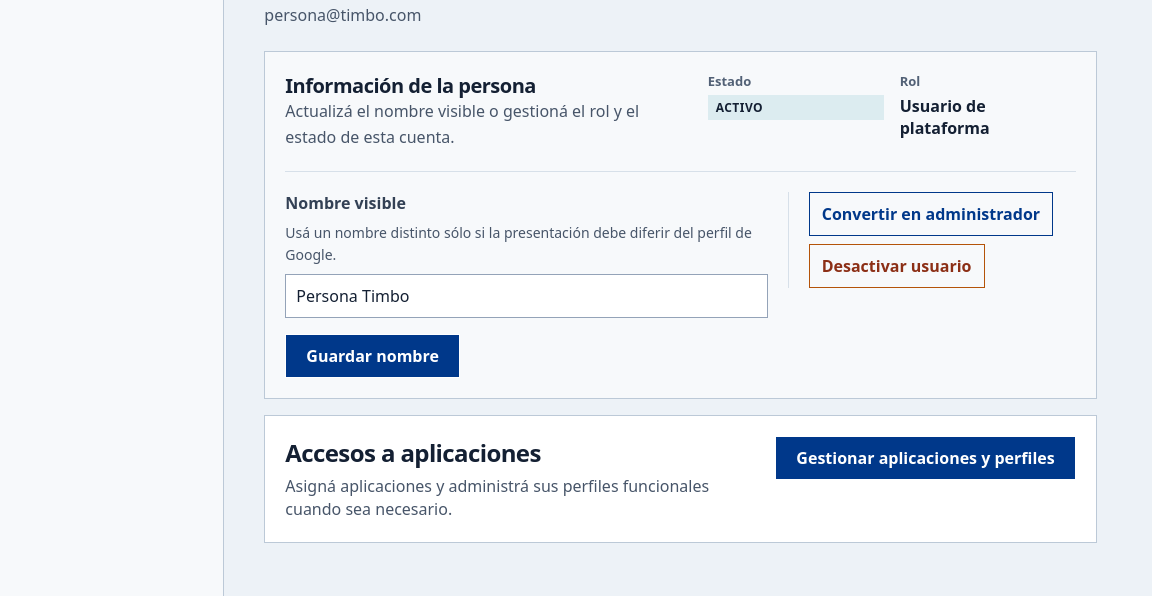
Test case: App › requiere una nueva confirmación al elegir otra aplicación para desasignar
(page scrolled)
Click the button "Gestionar aplicaciones y perfiles": (926, 458) [775,436,1076,480]
(page scrolled)
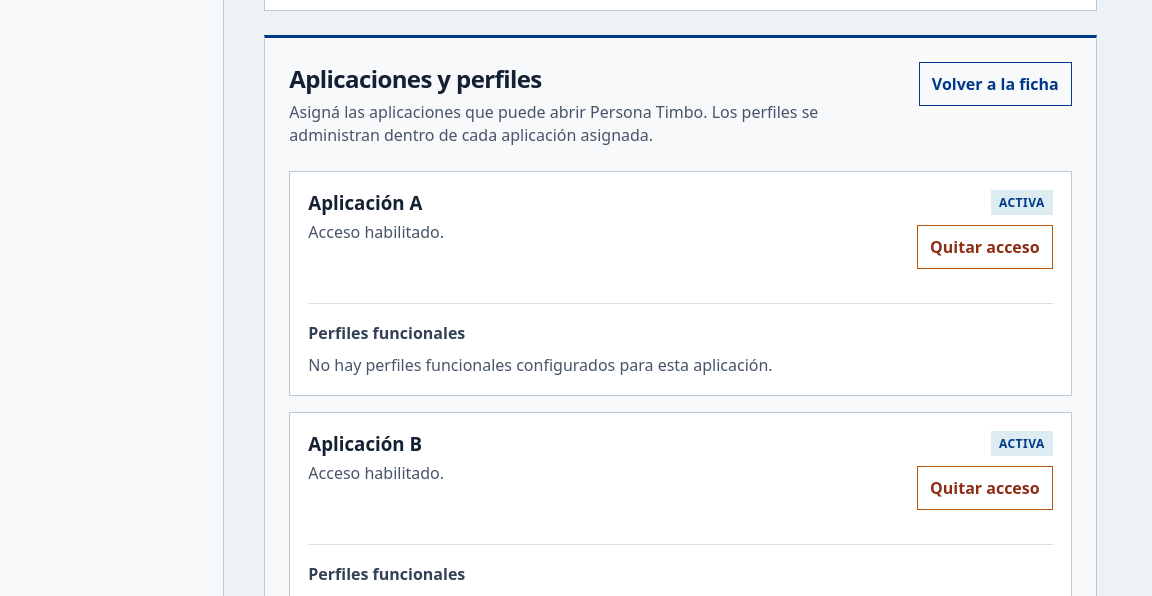
Click the 1st button "Quitar acceso": (985, 247) [917,225,1053,269]
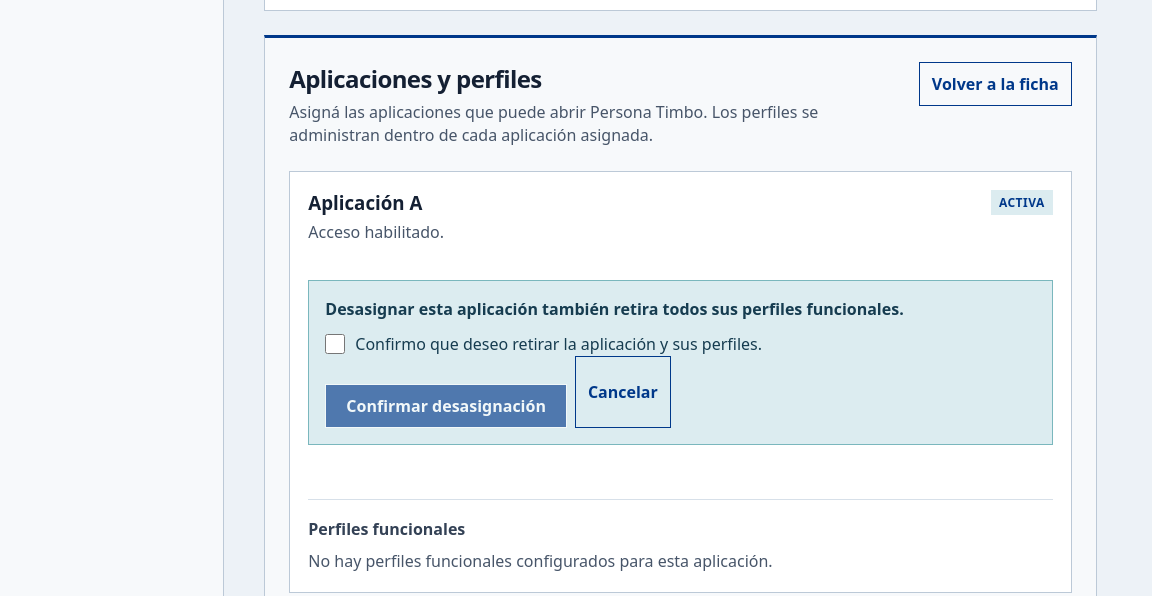
Click the checkbox labelled "Confirmo que deseo retirar la aplicación y sus perfiles.": (335, 344) [325,334,345,354]
(page scrolled)
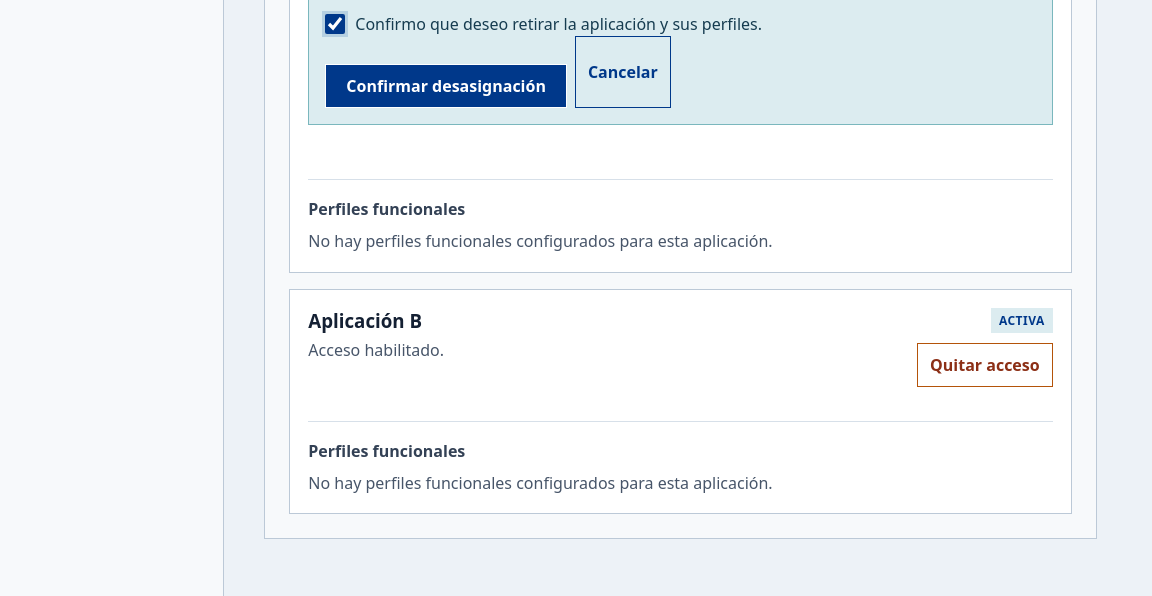
Expected: the button "Confirmar desasignación" is enabled, [325,64,567,108]
Click the button "Quitar acceso": (985, 365) [917,343,1053,387]
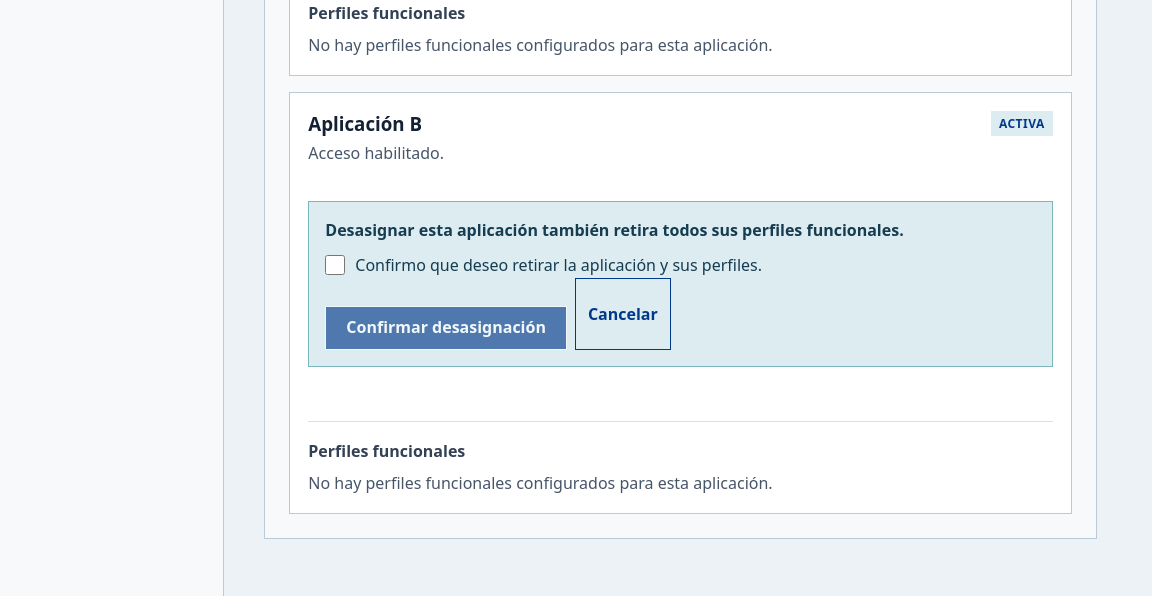
Expected: the button "Confirmar desasignación" is disabled, [325,306,567,350]
